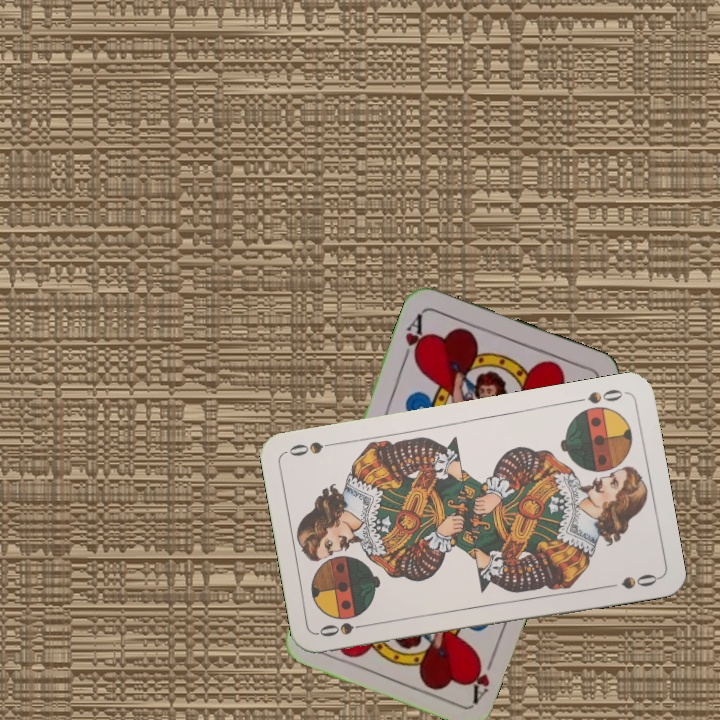HA: (464, 647, 500, 704), (398, 309, 428, 366)
SO: (315, 618, 374, 640), (569, 385, 628, 406)
